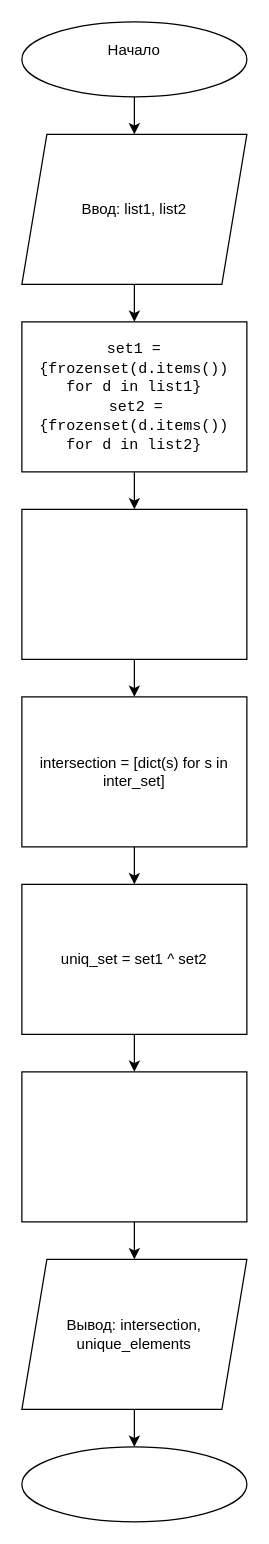
Image size: 269x1544. Some labels were removed from this diagram. The shapes that lost their labels are listed below. From the top down, each one's centre as x and y in pixels, then its label:
At (x=134, y=583): "inter_set = set1 & set2".
At (x=134, y=1146): "unique_elements = [dict(s) for s in uniq_set]".
At (x=134, y=1484): "Конец".
